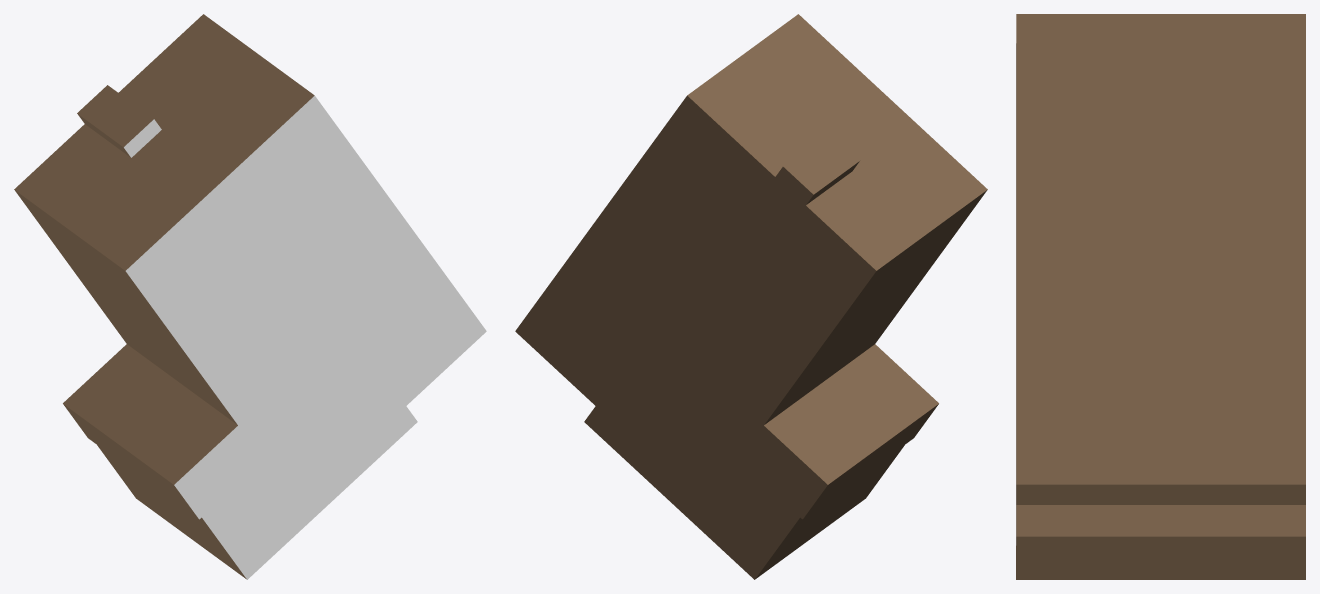
The picture shows the model from 3 angles, left to right: view 1: azimuth 30°, elevation 25°; view 2: azimuth 150°, elevation 25°; view 3: azimuth 270°, elevation 25°; orthographic projection. The views are drawn at different scales.
Parts seen in each view (by area): view 1: City_1885218; view 2: City_1885218; view 3: City_1885218.
Boxes of the visible parts, x1,y1,x2,y2 form: City_1885218: (14,14,486,579); City_1885218: (515,14,987,579); City_1885218: (1016,14,1305,579).
Bounding box in the file's own units: 2649 × 3277 × 1413.
